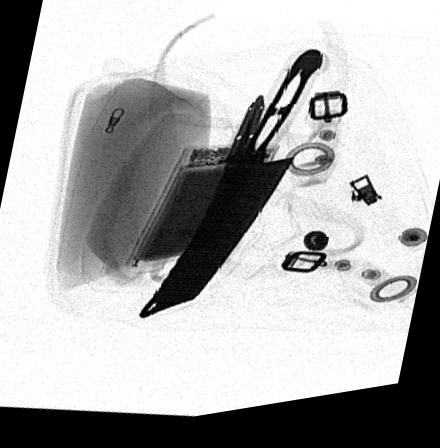Knife: (136, 58, 329, 320)
Powerbank: (119, 148, 279, 273)
Scissors: (130, 99, 280, 303)
